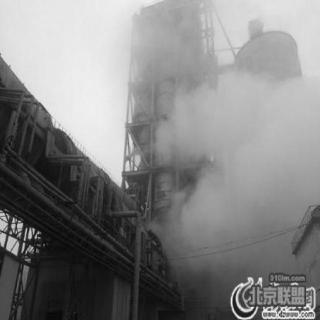Smoke: (163, 59, 314, 269)
